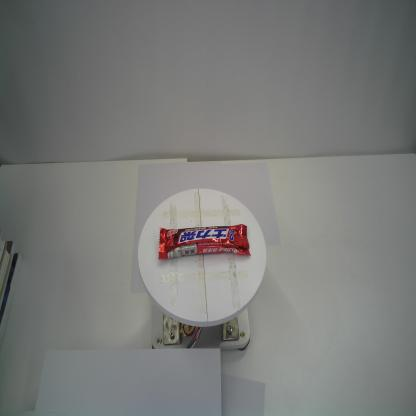Chocolate: (158, 223, 251, 260)
